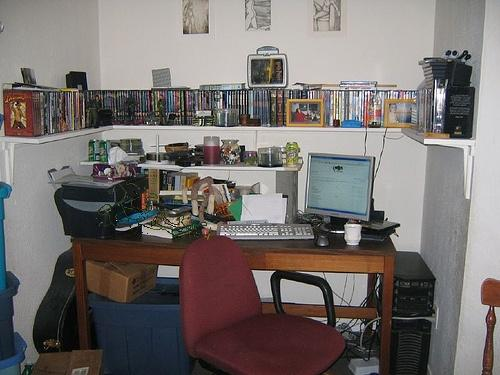tampered: (97, 184, 211, 240)
